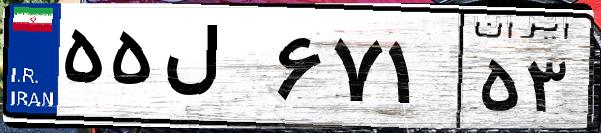1: (385, 28, 445, 110)
3: (525, 38, 570, 115)
5: (57, 26, 110, 100), (475, 38, 525, 113), (110, 28, 158, 98)
6: (270, 28, 330, 110)
7: (330, 28, 385, 110)
ل: (158, 20, 270, 120)
